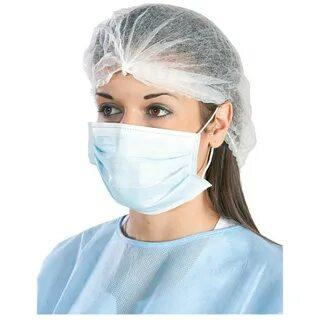hairnet: (82, 7, 279, 172)
mask: (79, 113, 223, 233)
